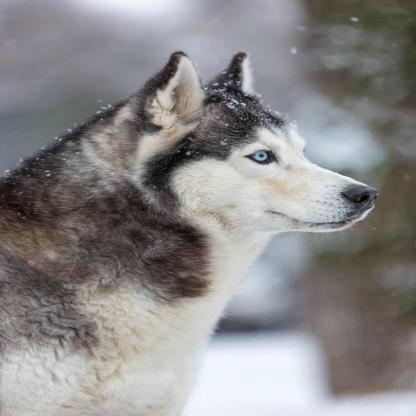husky: (1, 49, 380, 416)
